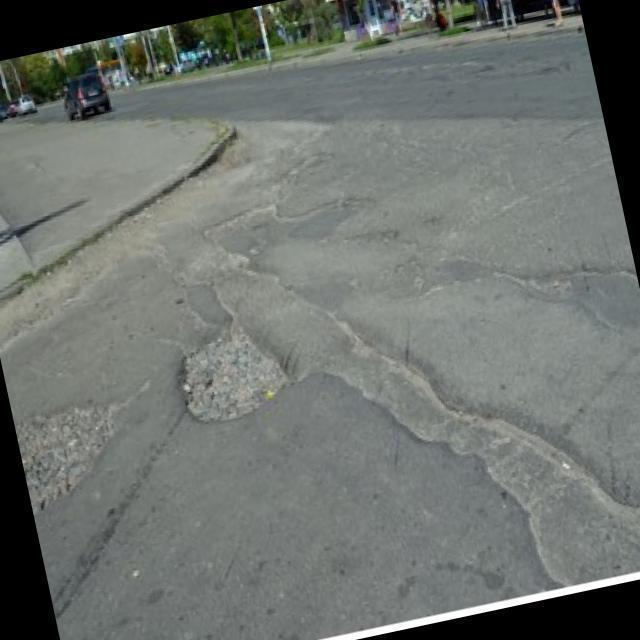pothole: (172, 313, 301, 427), (14, 398, 131, 515)
